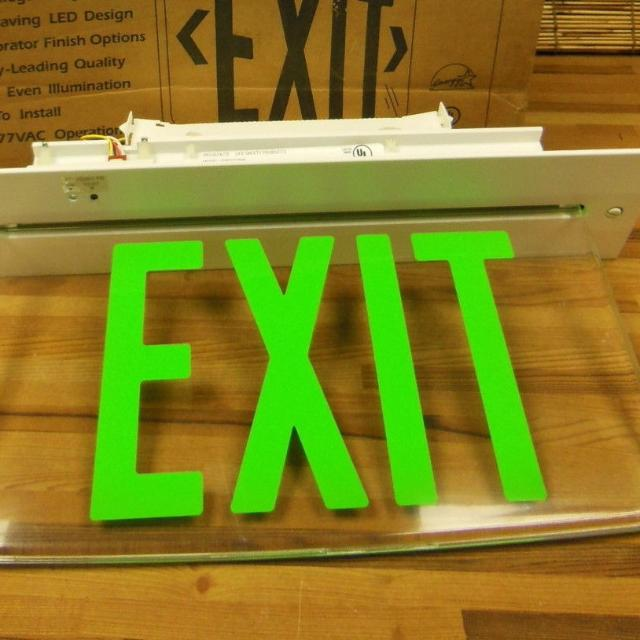exit: (86, 230, 550, 526)
